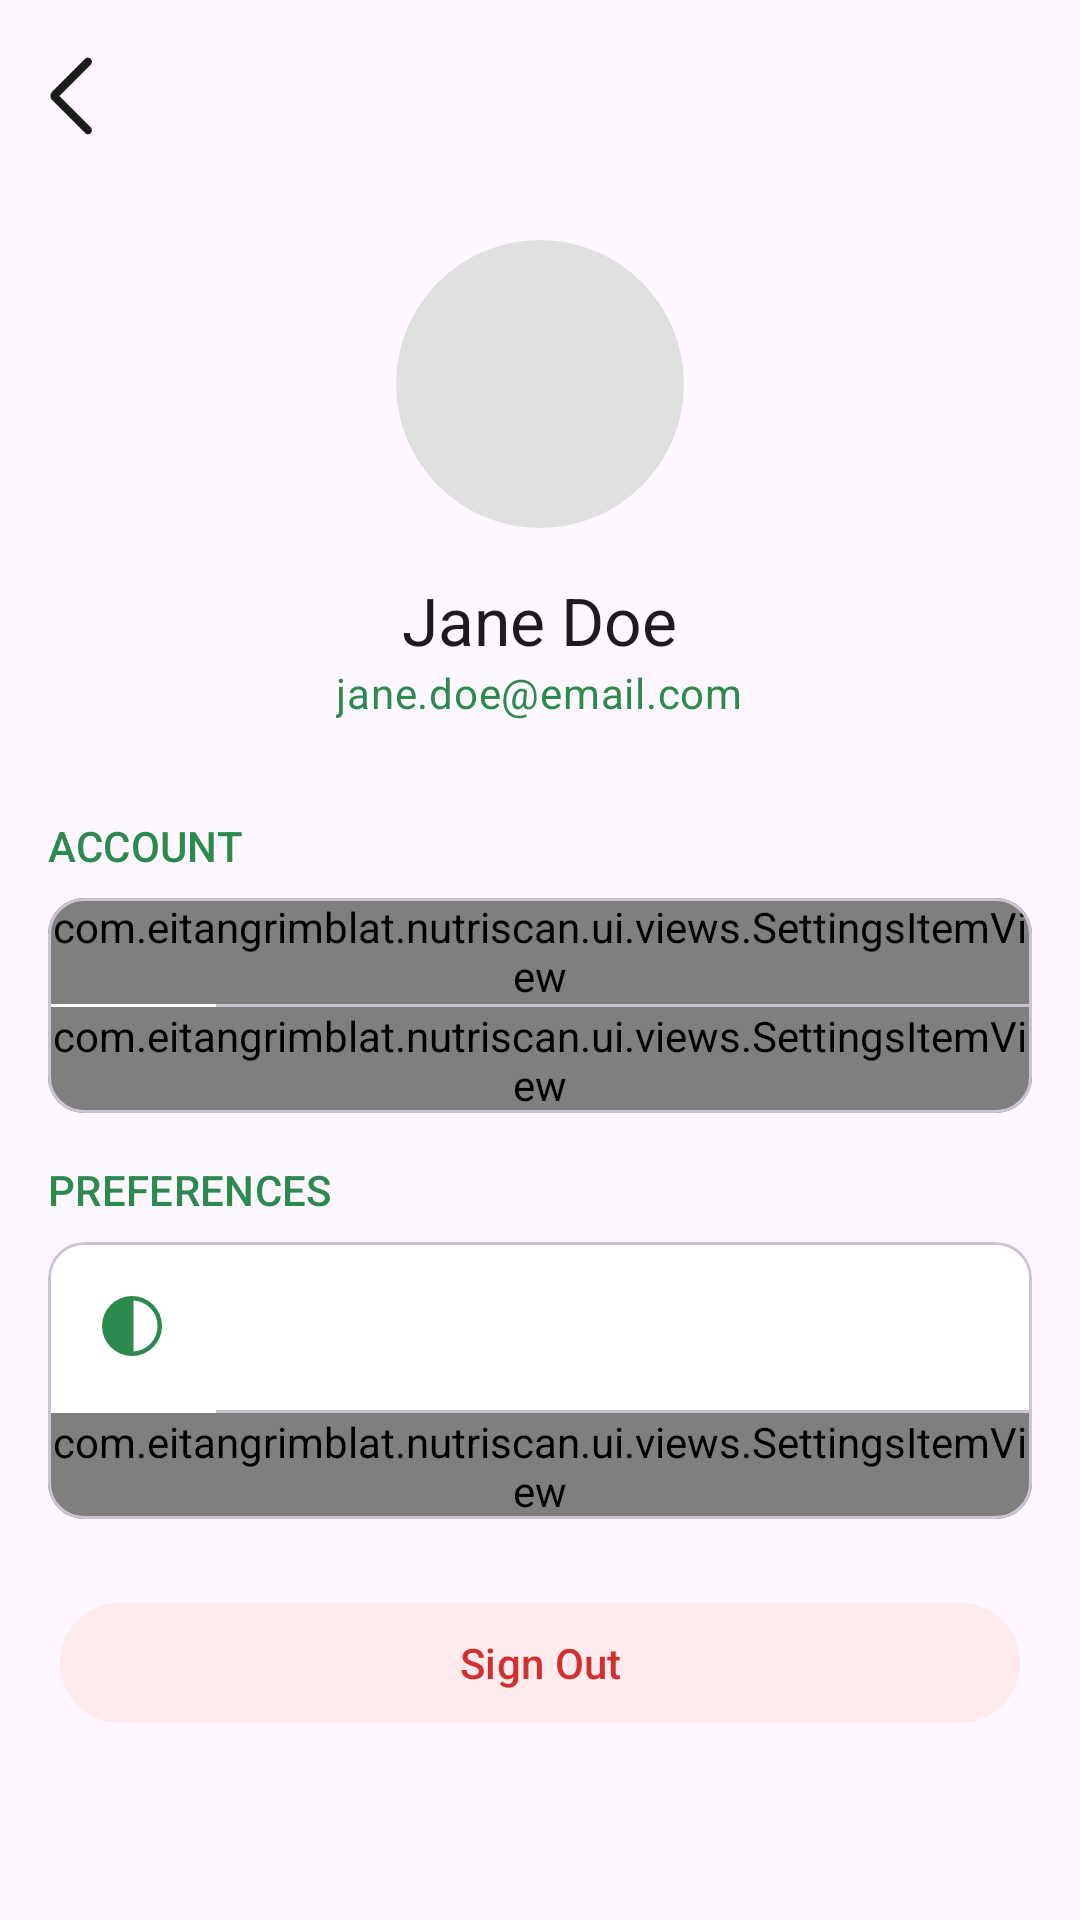

Icon click points for this 1080*1920 phone screenshot, format (x,y):
arrow back: (71,96)
theme: (132,1326)
